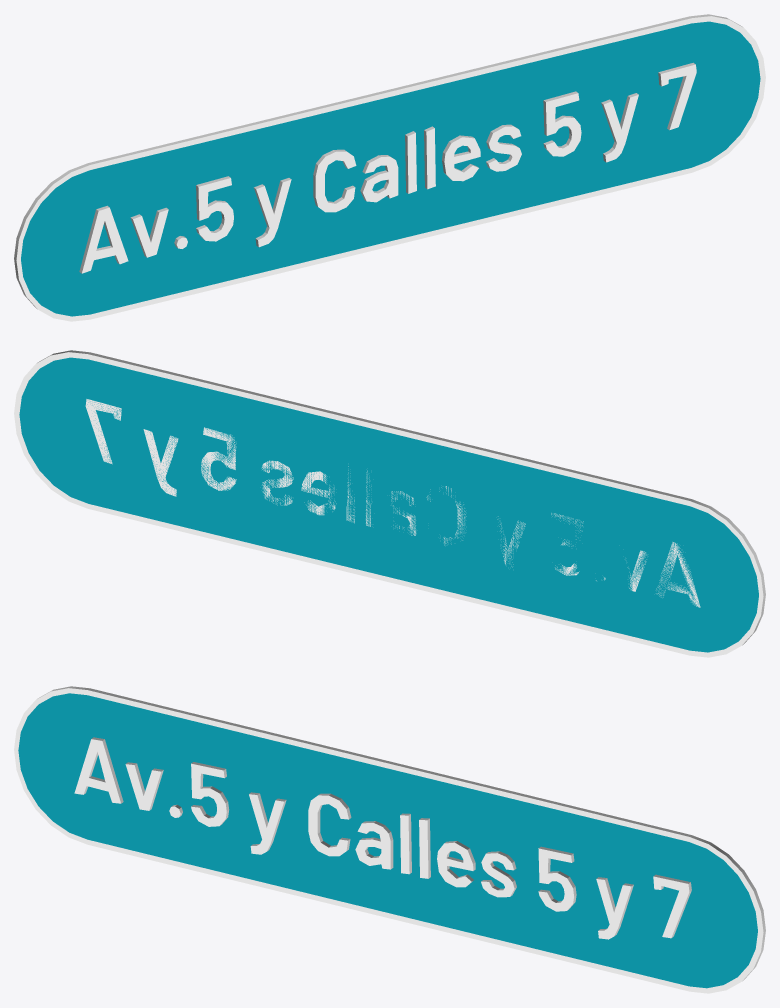
The model's file is av5ycalles5y7OBJ.obj.
3 renders of one model, top to bottom at view 1: azimuth 30°, elevation 25°; view 2: azimuth 150°, elevation 25°; view 3: azimuth 330°, elevation 25°, orthographic.
Parts seen in each view (by area): view 1: Entorno_95_Entorno_1__24840_, Texto_de_modelo_Texto_de_modelo_10__24828_, Entorno_96_Entorno_1__24852_; view 2: Entorno_95_Entorno_1__24840_, Entorno_96_Entorno_1__24852_, Texto_de_modelo_Texto_de_modelo_10__24828_; view 3: Entorno_95_Entorno_1__24840_, Texto_de_modelo_Texto_de_modelo_10__24828_, Entorno_96_Entorno_1__24852_.
Boxes of the visible parts, box(x1,y1,x2,y2) form: Entorno_95_Entorno_1__24840_: box(21, 21, 760, 316); Texto_de_modelo_Texto_de_modelo_10__24828_: box(79, 62, 696, 273); Entorno_96_Entorno_1__24852_: box(14, 14, 765, 321); Entorno_95_Entorno_1__24840_: box(19, 357, 758, 652); Entorno_96_Entorno_1__24852_: box(14, 350, 765, 657); Texto_de_modelo_Texto_de_modelo_10__24828_: box(85, 399, 700, 607); Entorno_95_Entorno_1__24840_: box(18, 693, 757, 988); Texto_de_modelo_Texto_de_modelo_10__24828_: box(74, 737, 691, 939); Entorno_96_Entorno_1__24852_: box(14, 686, 765, 993).
Bounding box in the file's own units: 52.69 × 10.39 × 0.6.
